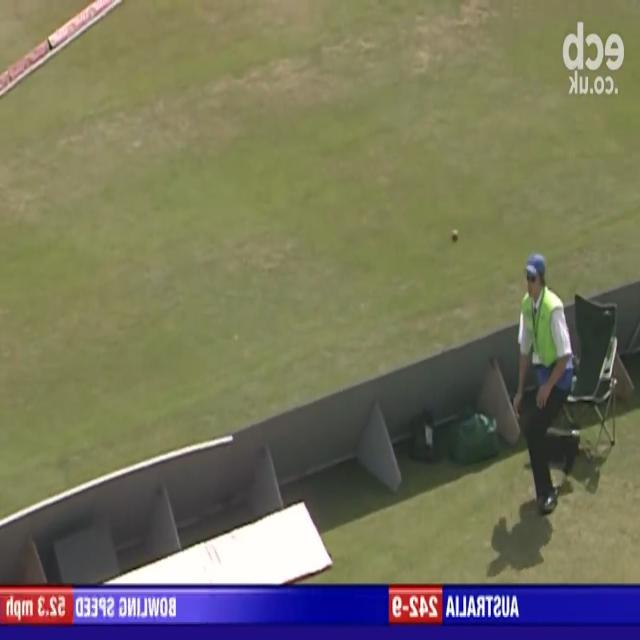ball: (448, 227, 461, 247)
